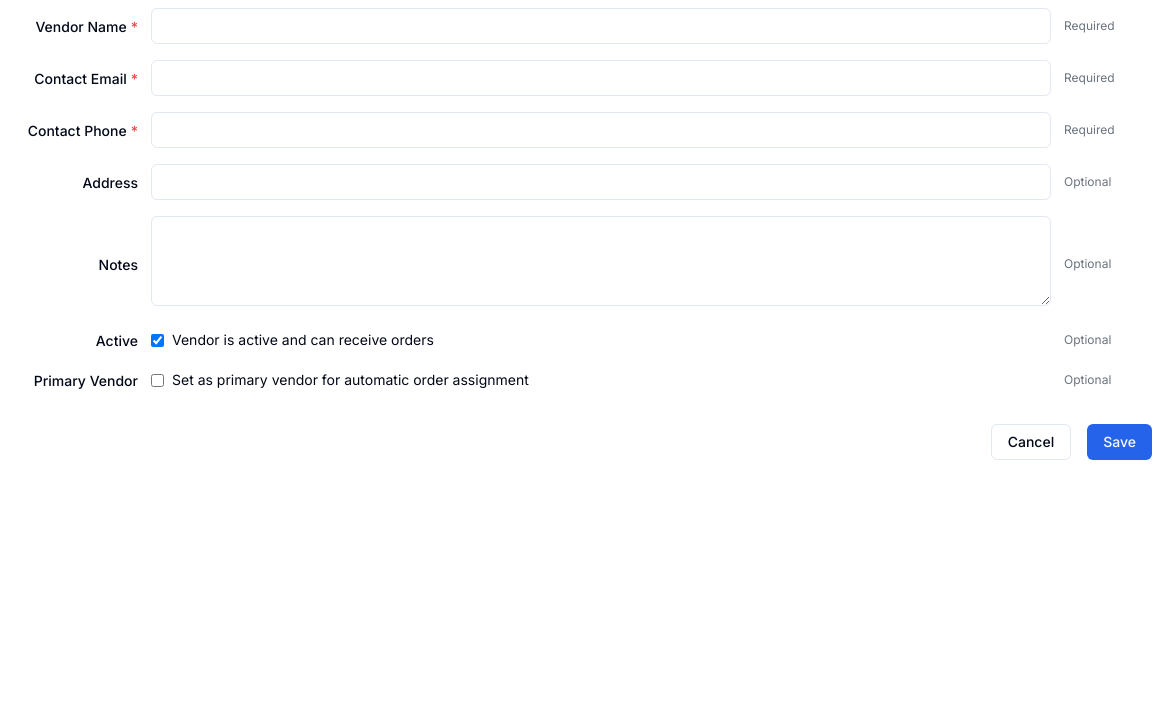
Test: VendorForm Component › create mode › should handle API errors
This screenshot has width=1164, height=720.
Type "Existing Vendor" into the field labelled "Vendor Name*".
click(601, 26); type("Existing Vendor")  # box [151, 8, 1051, 44]
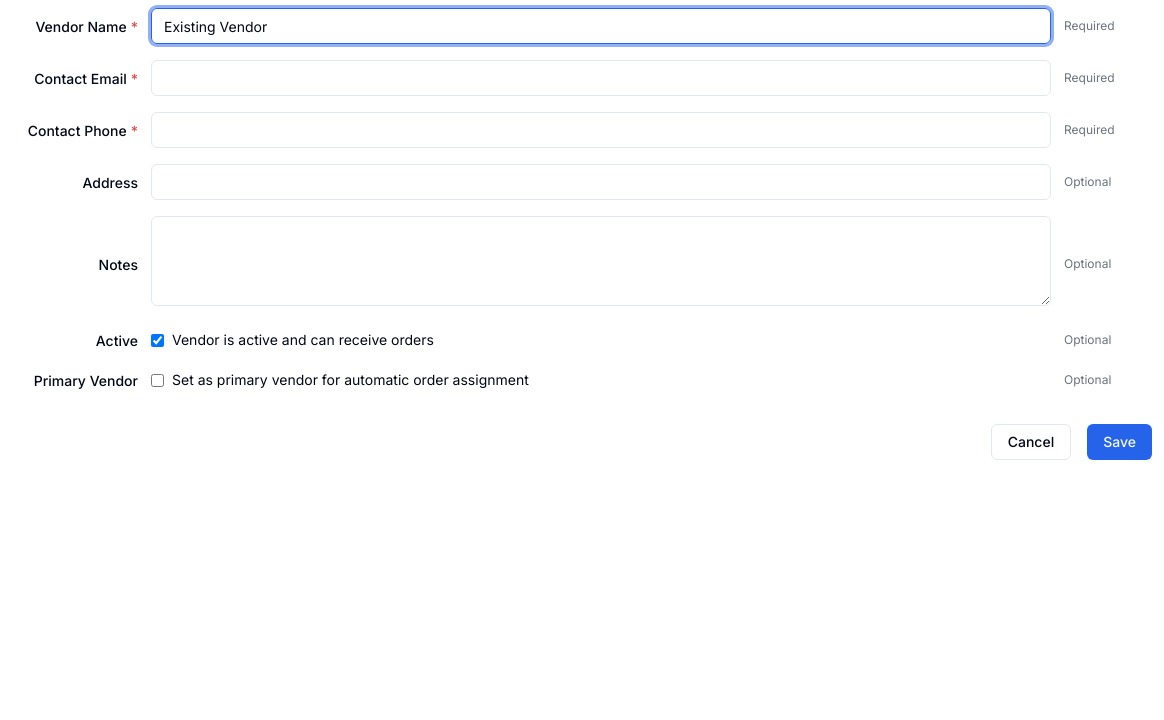
Type "test@vendor.com" into the field labelled "Contact Email*".
click(601, 78); type("test@vendor.com")  # box [151, 60, 1051, 96]
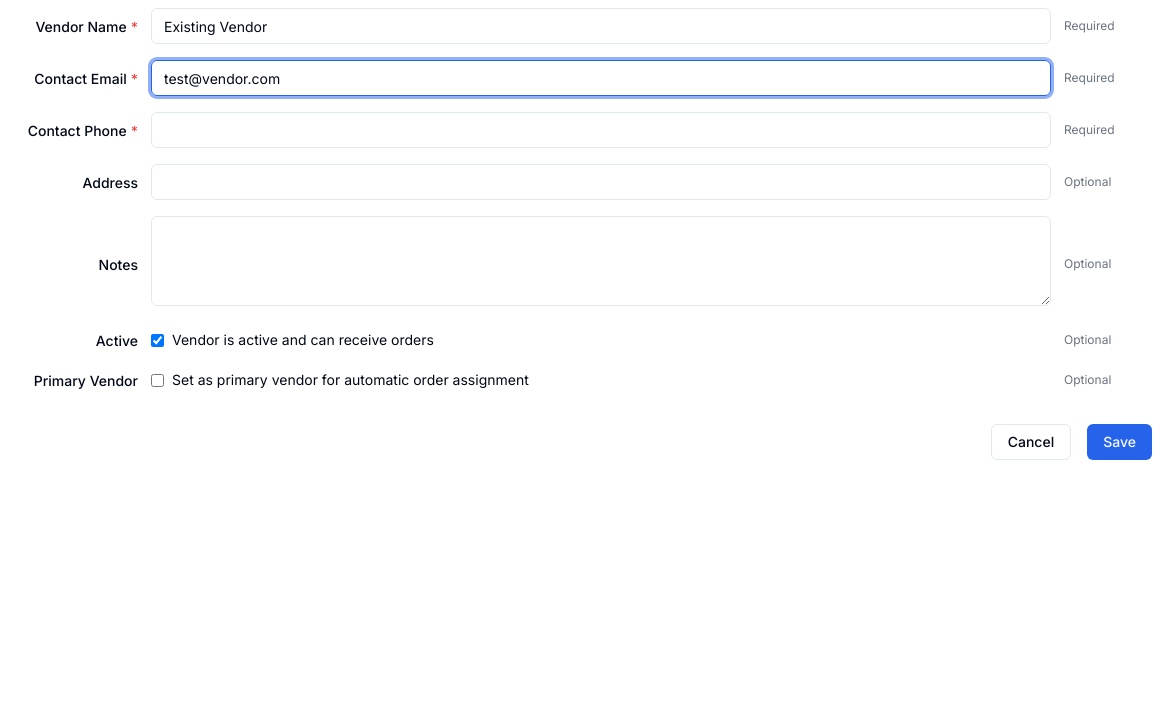
Type "555-1234" into the field labelled "Contact Phone*".
click(601, 130); type("555-1234")  # box [151, 112, 1051, 148]
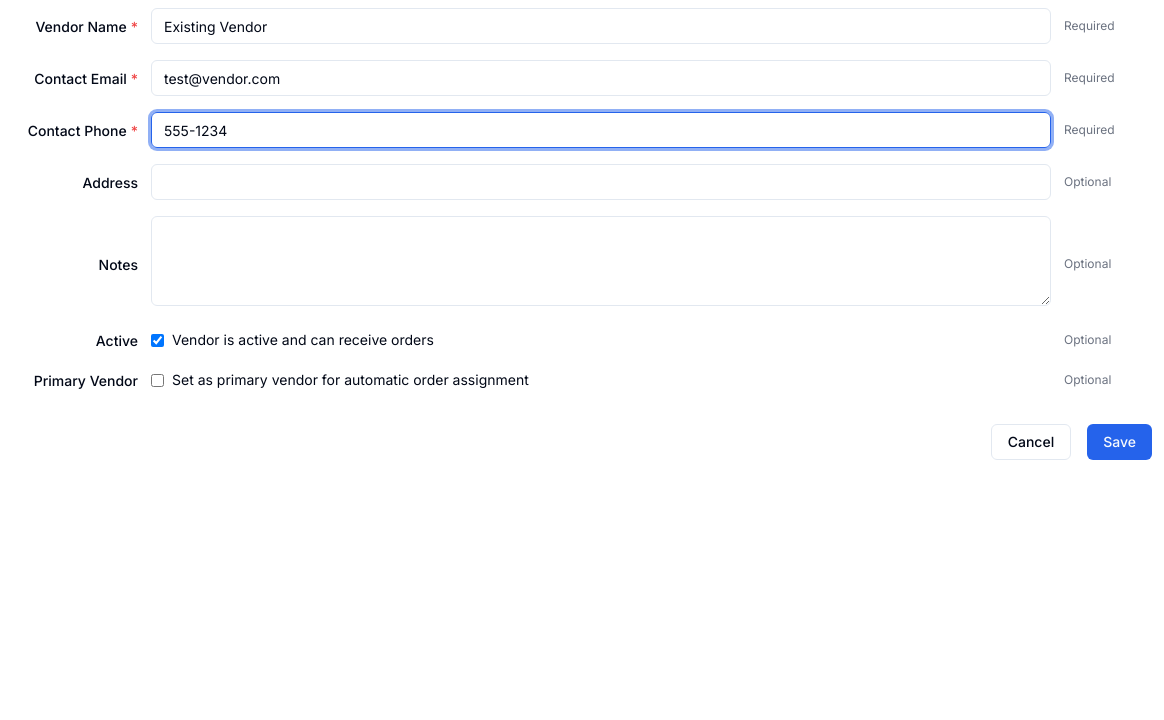
Click the button "Save".
click(1120, 442)  # box [1087, 424, 1152, 460]
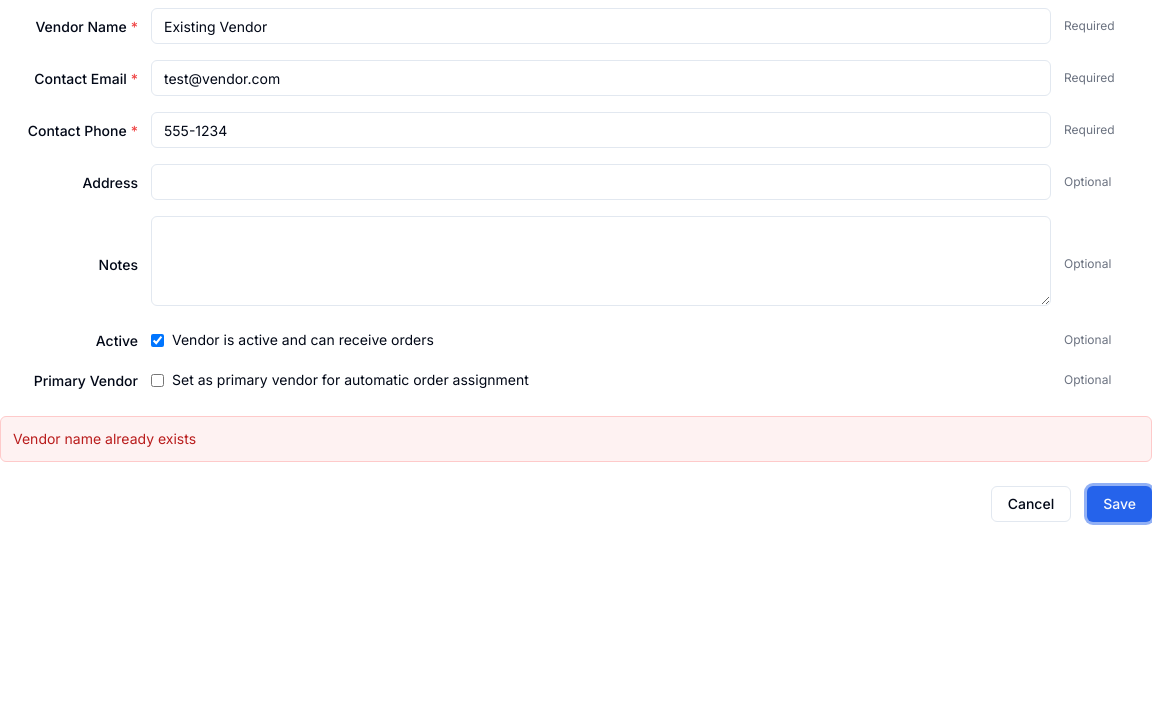
Now the text "Vendor name already exists" is shown, box [13, 430, 196, 447]
